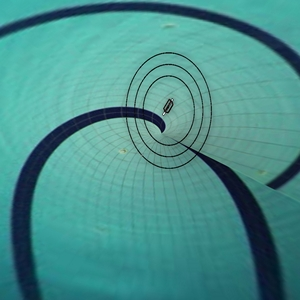circle: (120, 39, 243, 185)
submarine: (161, 94, 179, 121)
